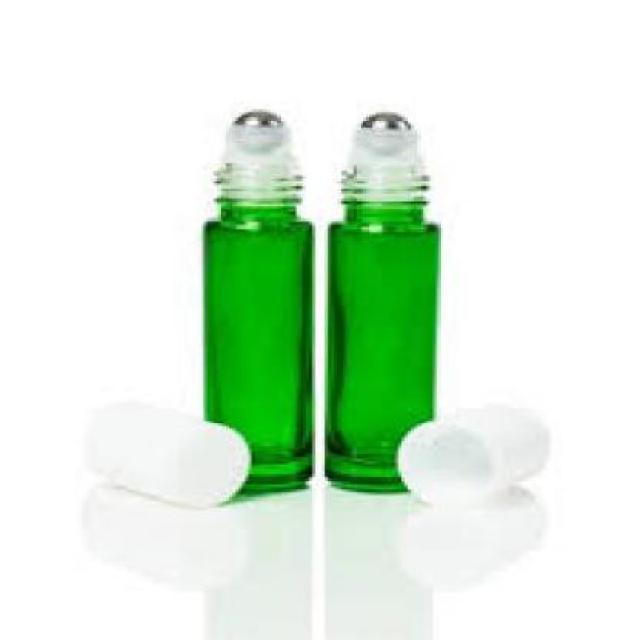GLASS: (321, 198, 437, 490), (200, 196, 309, 490)
METAL: (357, 109, 408, 140), (229, 110, 277, 138)
PLASTIC: (98, 413, 250, 505), (391, 408, 542, 500), (338, 127, 424, 199), (210, 141, 296, 196)
